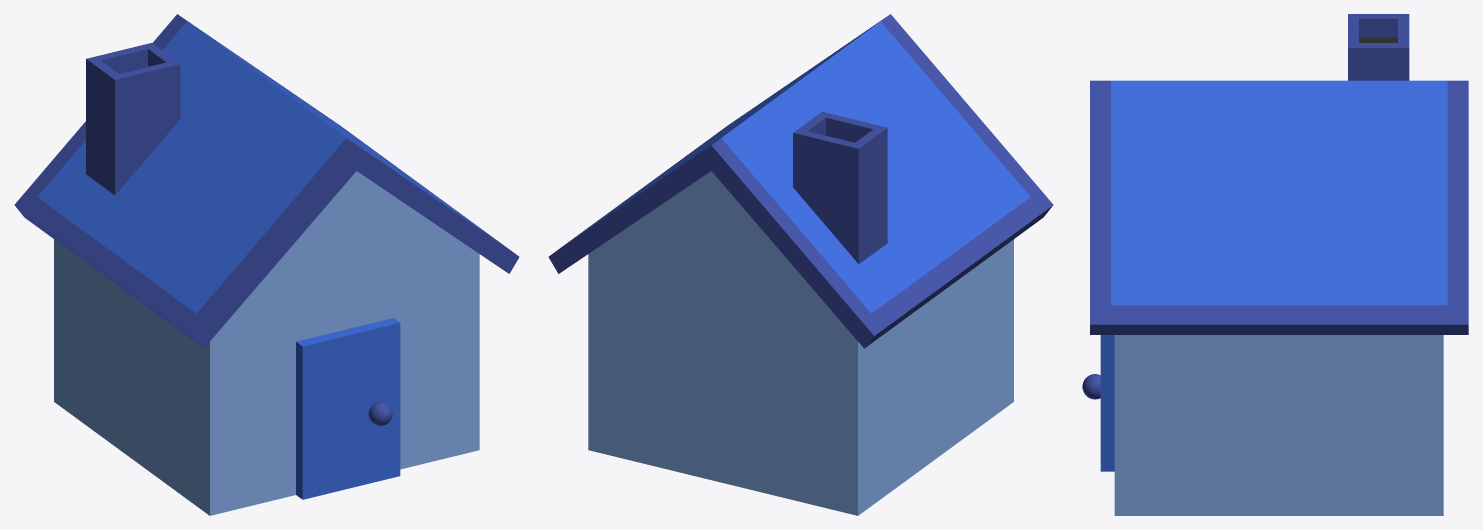
File: House.fbx
3 views of the same model, side by side, from view 1: azimuth 30°, elevation 25°; view 2: azimuth 150°, elevation 25°; view 3: azimuth 270°, elevation 25° (orthographic). The views are drawn at different scales.
Visible parts, largest first — view 1: House; view 2: House; view 3: House.
Boxes of the visible parts, x1=… form: House: x1=14, y1=14, x2=519, y2=515; House: x1=548, y1=14, x2=1053, y2=515; House: x1=1082, y1=14, x2=1468, y2=515.
Bounding box in the file's own units: 121 × 124 × 117.
1 material, 1 textured.
